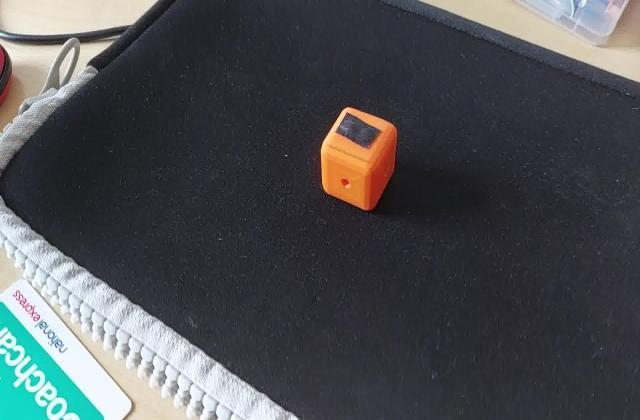black: (337, 117, 385, 149)
sticker: (318, 102, 400, 214)
